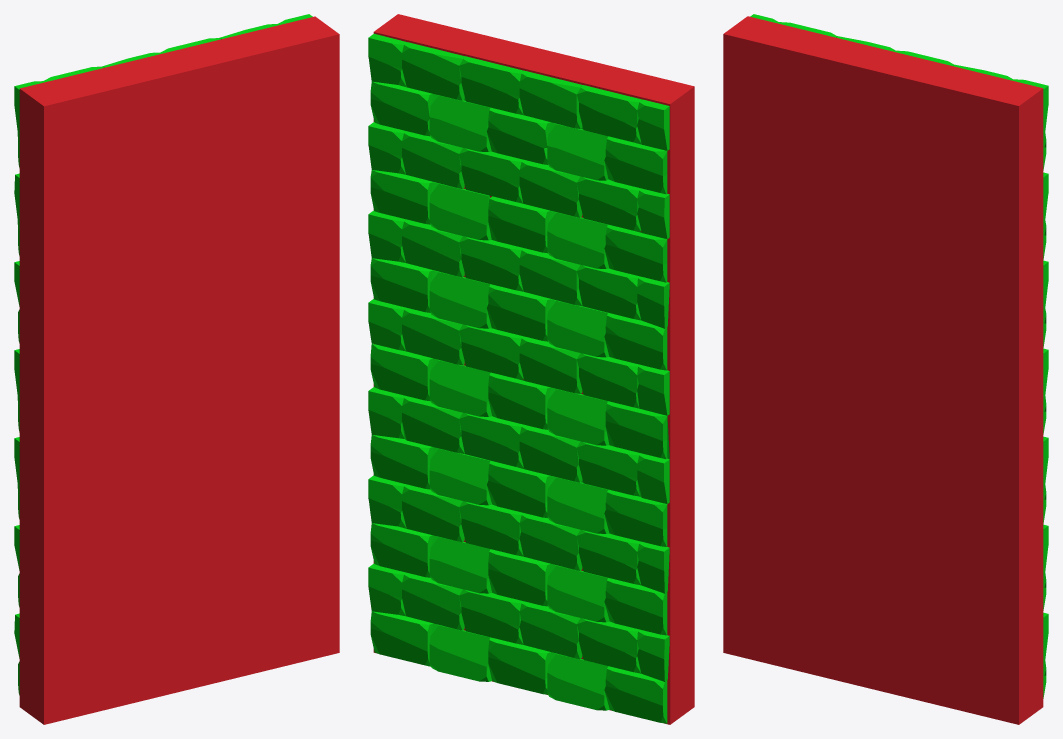
Rendered from DungeonWall.glb.
3 views of the same model, side by side, from view 1: azimuth 30°, elevation 25°; view 2: azimuth 150°, elevation 25°; view 3: azimuth 330°, elevation 25° (orthographic).
Visible parts, largest first — view 1: realBase.001; view 2: realBase.001; view 3: realBase.001.
Part boxes in pixels (left/top/right/bottom): realBase.001: left=14, top=14, right=339, bottom=724; realBase.001: left=368, top=14, right=694, bottom=724; realBase.001: left=723, top=14, right=1048, bottom=724.
Size of the model in its own units: 4 by 8 by 0.7039.
